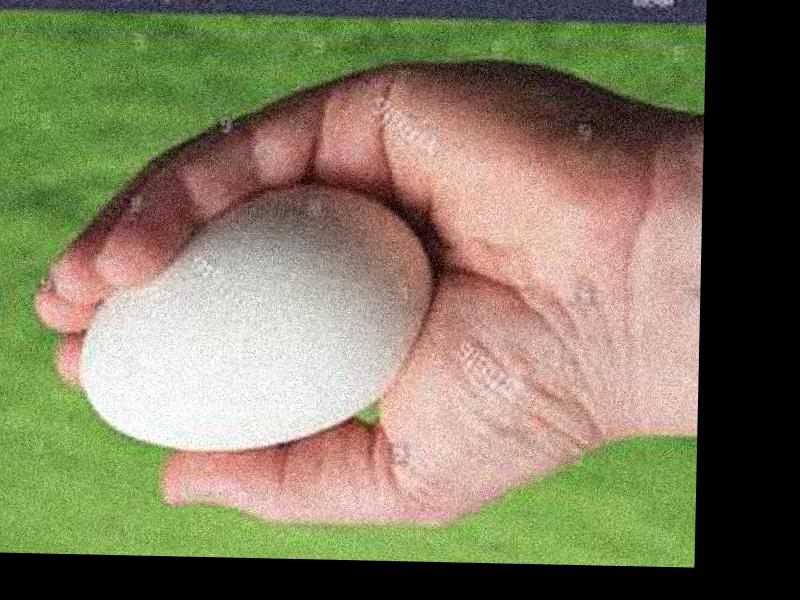Eggs: (80, 178, 440, 458)
